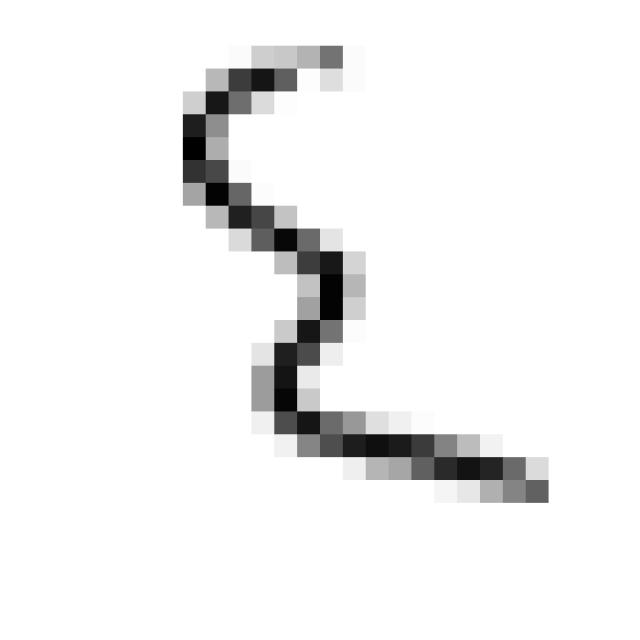4 -four-: (160, 25, 571, 528)
